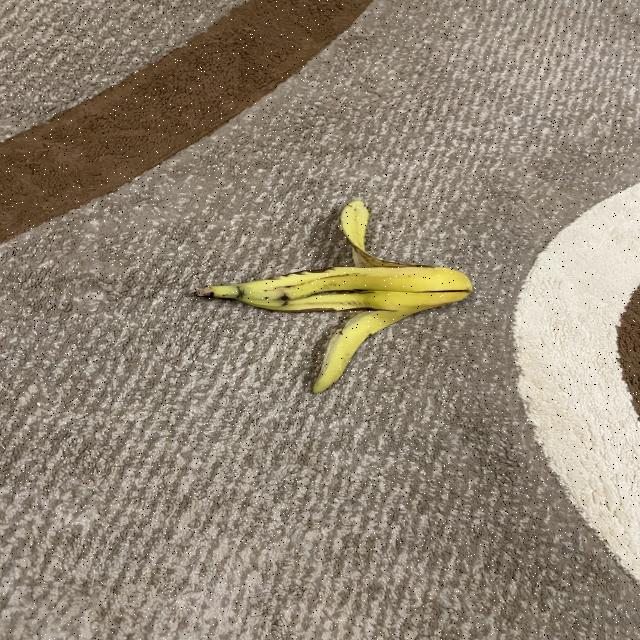banana-peel: (193, 198, 473, 394)
